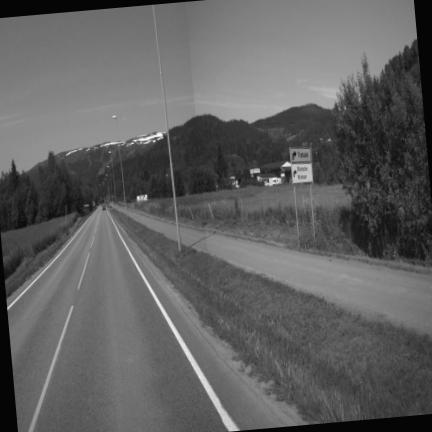Road: (7, 210, 299, 431), (181, 226, 431, 336)
